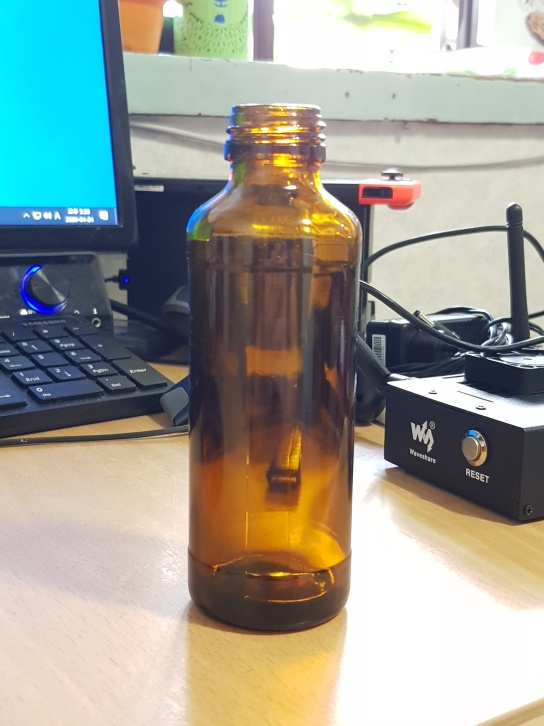Glass: (186, 102, 367, 639)
